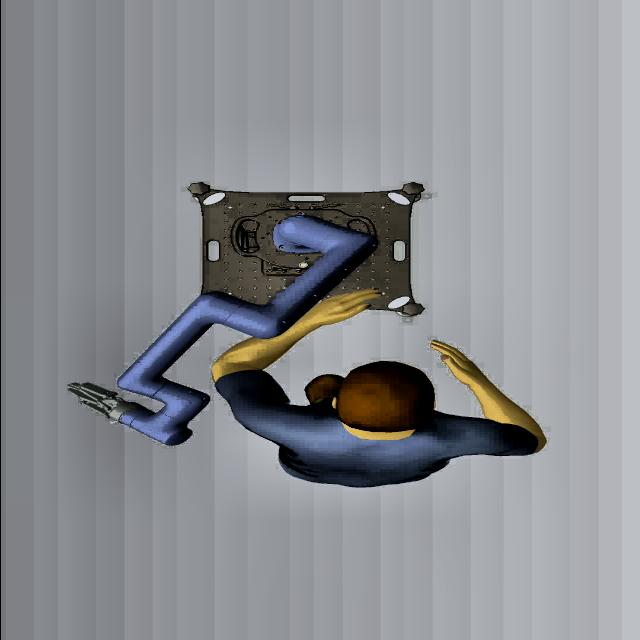human: (208, 288, 546, 488)
robot: (51, 209, 415, 449)
